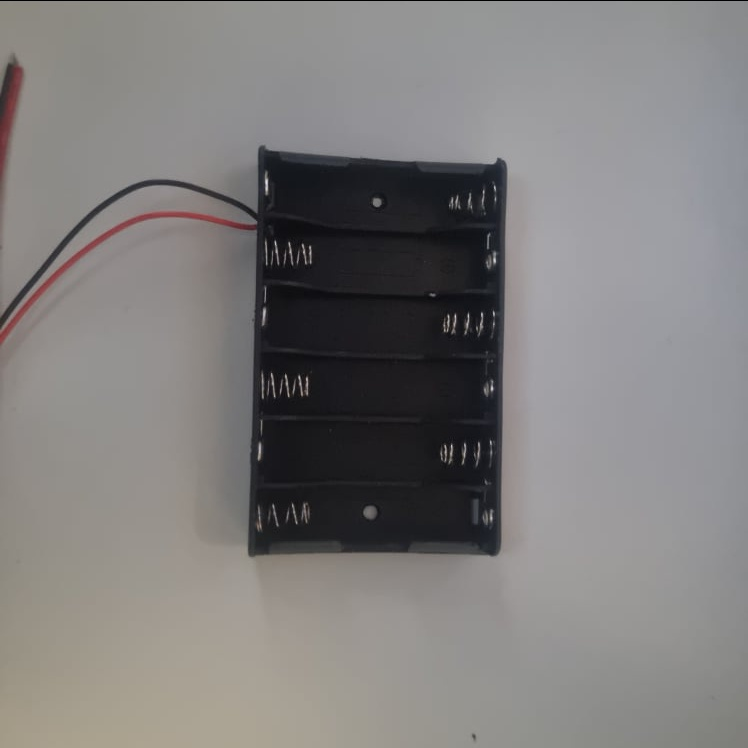BATTERY BOX: (250, 144, 508, 559)
